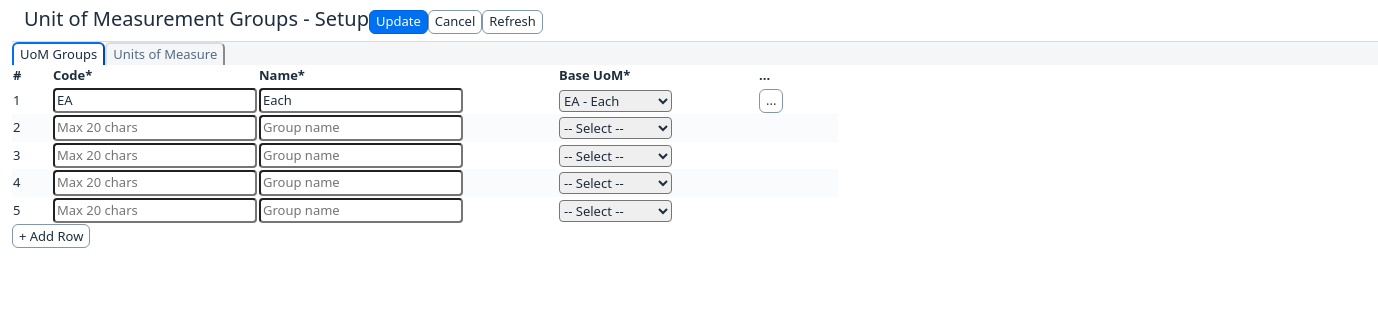
group save skips unused padding rows
The image size is (1378, 313).
Expected: the field showing "Each" is shown, [259,88,463,113]
Step 1. Type "WEIGHT" into the field named "Group code 2" → (155, 128), box [53,115,257,141]
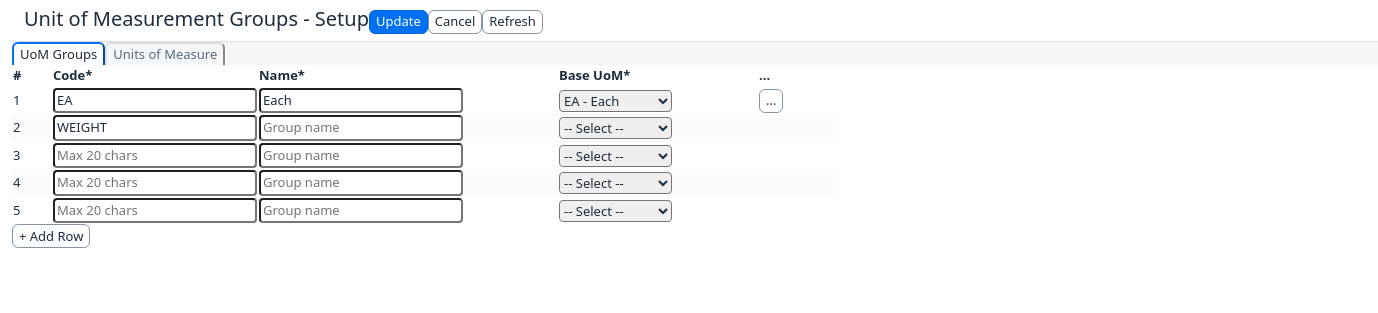
Step 2. Type "Weight" into the field named "Group name 2" → (361, 128), box [259,115,463,141]
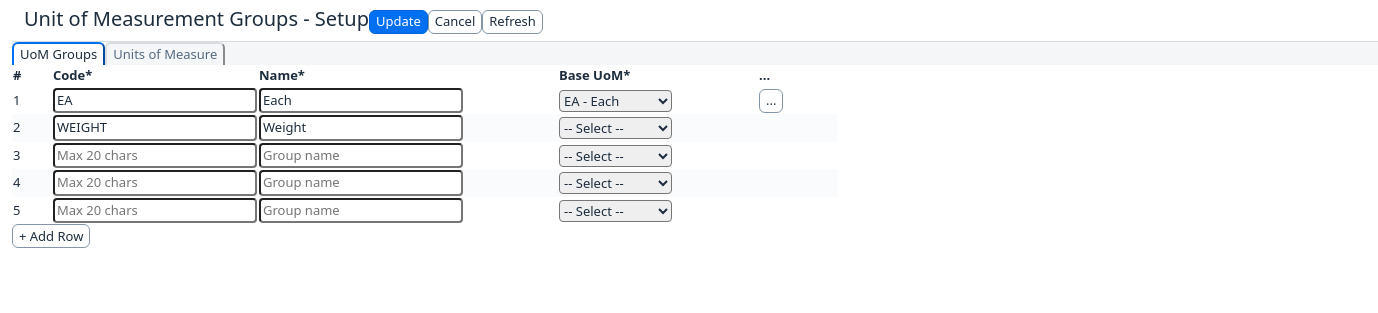
Step 3. Select "KGS - Kilogram" in the dropdown named "Base UoM 2" → (616, 128), box [559,117,672,139]
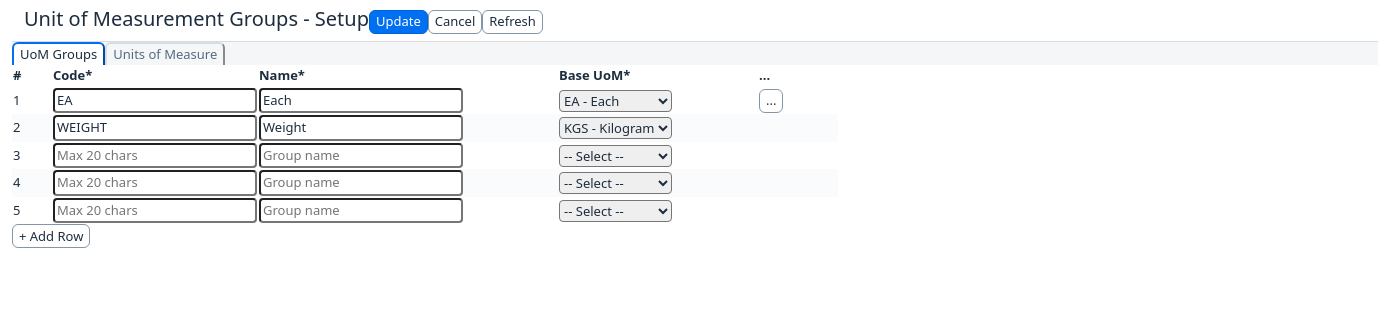
Step 4. Click the button "Update" → (398, 22), box [369,10,428,34]
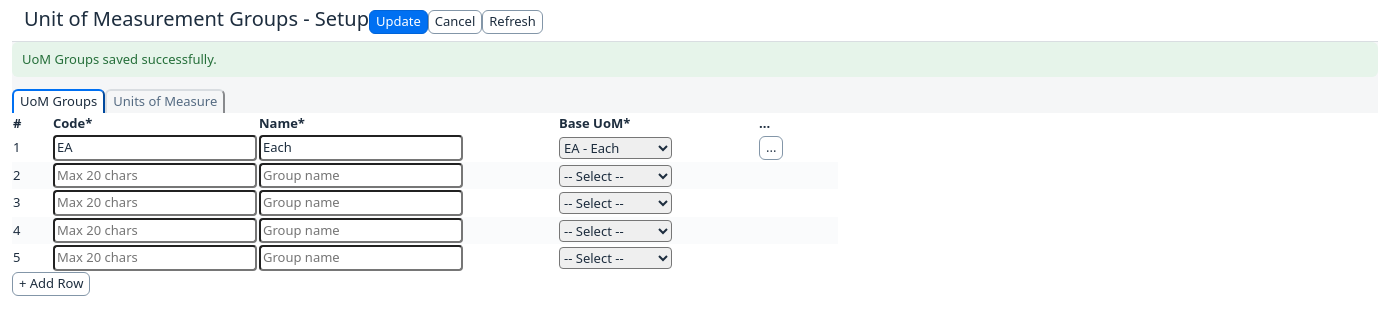
Now the text "UoM Groups saved successfully." is shown, box [12,42,1377,77]
